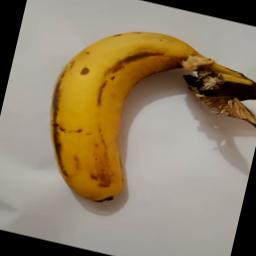Banana Unripe: (23, 0, 256, 243)
